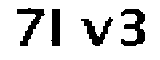3: (118, 7, 148, 51)
7: (13, 5, 47, 54)
I: (49, 6, 68, 51)
v: (77, 14, 115, 48)
